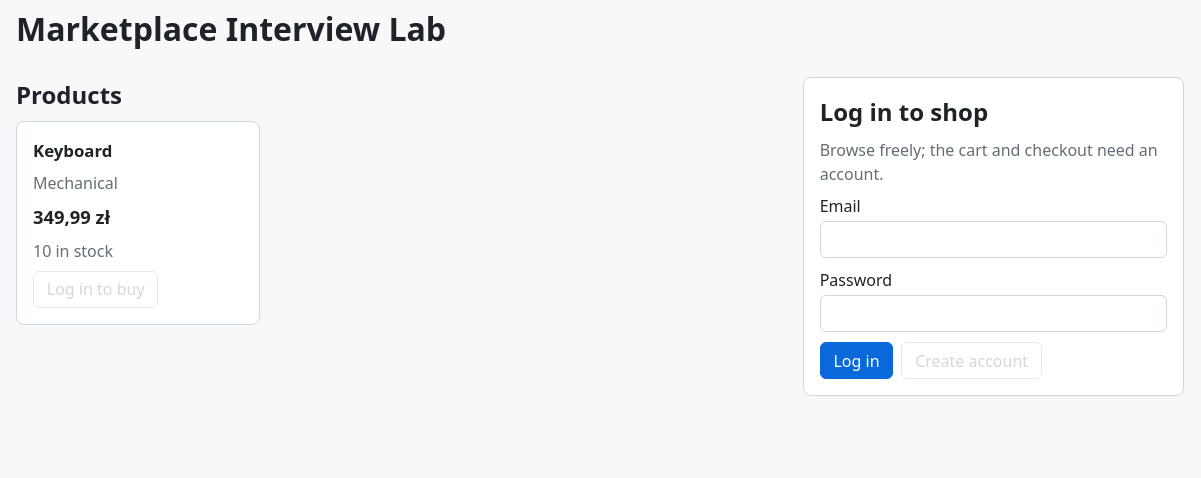
Scenario: App authentication › clears the password field also after a failed login
Expected: the heading "Log in to shop" is shown, [820, 95, 988, 128]
Type "alice@example.com" into the field labelled "Email" at coordinates (993, 240), box [820, 221, 1167, 258]
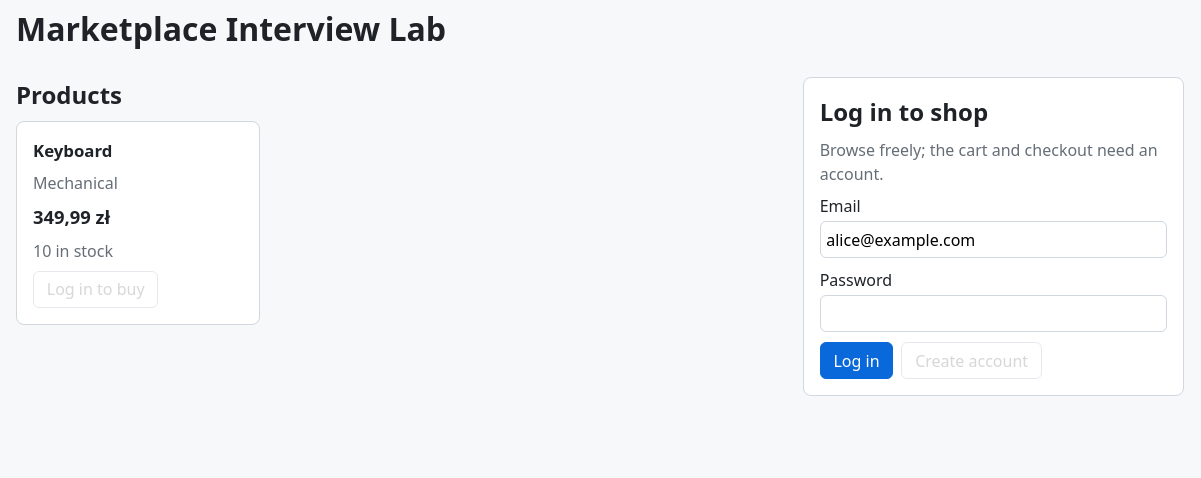
Type "wrong password" into the password field labelled "Password" at coordinates (993, 314), box [820, 295, 1167, 332]
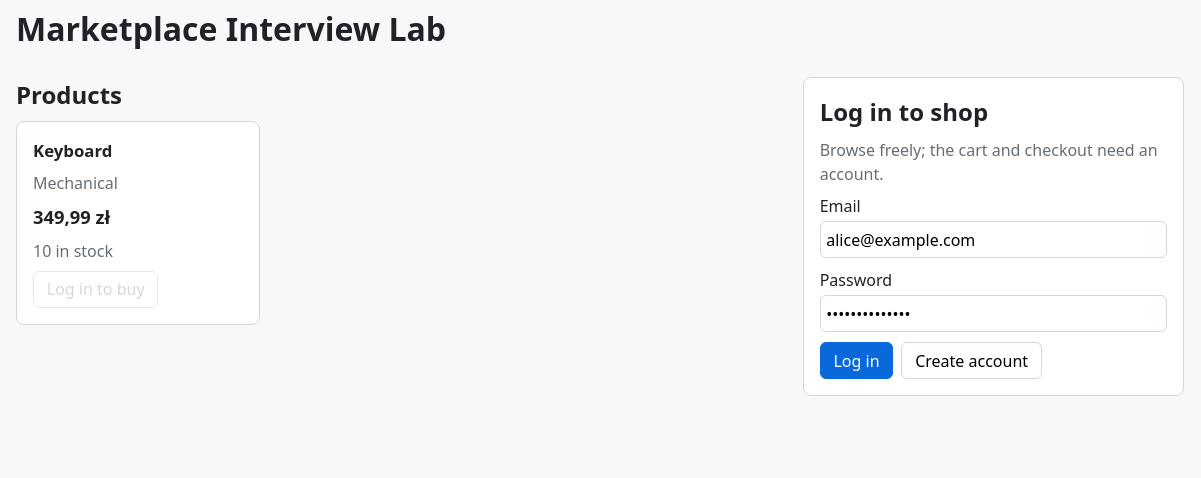
Click the button "Log in" at coordinates (857, 360), box [820, 342, 893, 379]
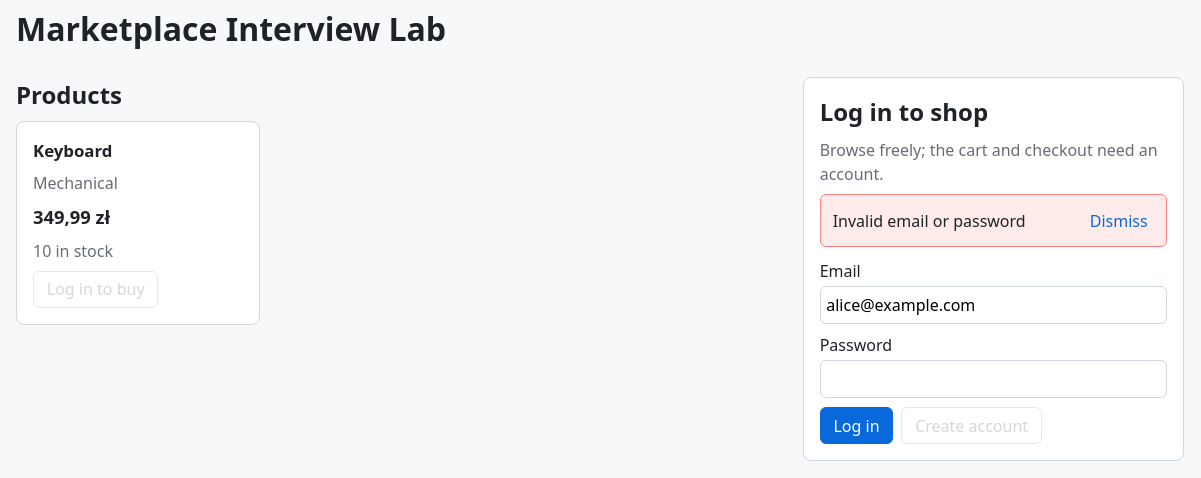
Expected: the message shows "Invalid email or password", [833, 210, 1026, 232]
Expected: the password field labelled "Password" is empty, [820, 360, 1167, 398]
